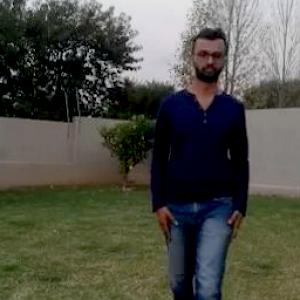follow: (157, 24, 245, 298)
